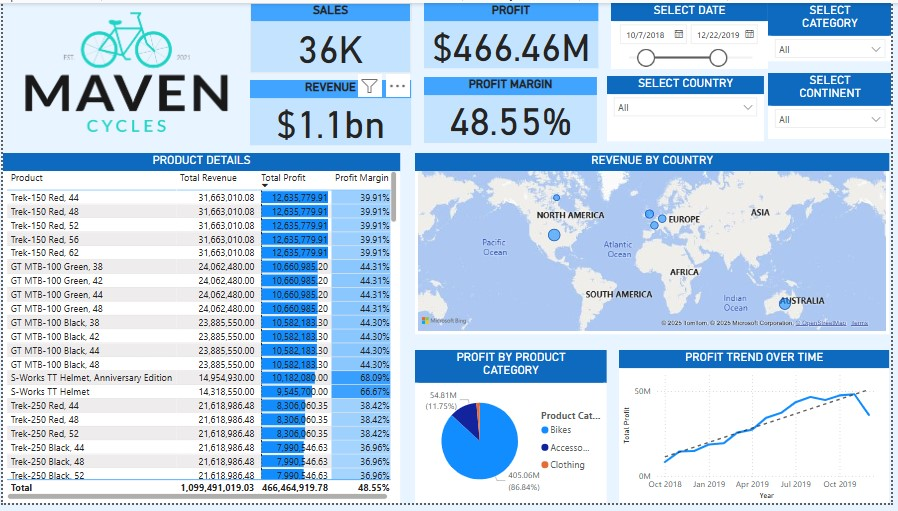

The dashboard page shown, as its layout file describes it:
{"tool":"powerbi","page":{"name":"Page 1","canvas":[1280,720],"ordinal":0},"visuals":[{"type":"card","title":"REVENUE","fields":{"Values":["Maven Cycles Sales Merged.Total Revenue"]},"box":[355.7,110.9,231.8,93.6],"z":0},{"type":"card","title":"PROFIT","fields":{"Values":["Maven Cycles Sales Merged.Total Profit"]},"box":[606.2,0,250.6,93.6],"z":1000},{"type":"card","title":"PROFIT MARGIN","fields":{"Values":["Avg(Maven Cycles Sales Merged.Profit Margin %)"]},"box":[606.2,106.6,249.1,95],"z":2000},{"type":"card","title":"SALES","fields":{"Values":["Maven Cycles Sales Merged.Total Orders"]},"box":[355.7,0,231.8,100.8],"z":3000},{"type":"tableEx","title":"PRODUCT DETAILS","fields":{"Values":["Maven Cycles Sales Merged.Product","Maven Cycles Sales Merged.Total Revenue","Maven Cycles Sales Merged.Total Profit","Avg(Maven Cycles Sales Merged.Profit Margin %)"]},"box":[0,216,571.7,504],"z":4000},{"type":"map","title":"REVENUE BY COUNTRY","fields":{"Category":["Maven Cycles Sales Merged.Country"],"Size":["Maven Cycles Sales Merged.Total Revenue"]},"box":[593.3,216,682.6,260.6],"z":5000},{"type":"pieChart","title":"PROFIT BY PRODUCT CATEGORY","fields":{"Category":["Maven Cycles Sales Merged.Product Category"],"Y":["Maven Cycles Sales Merged.Total Profit"]},"box":[593.3,499.7,276.5,220.3],"z":6000},{"type":"lineChart","title":"PROFIT TREND OVER TIME","fields":{"Category":["Maven Cycles Sales Merged.Stock_ Date.Variation.Date Hierarchy.Year","Maven Cycles Sales Merged.Stock_ Date.Variation.Date Hierarchy.Quarter","Maven Cycles Sales Merged.Stock_ Date.Variation.Date Hierarchy.Month","Maven Cycles Sales Merged.Stock_ Date.Variation.Date Hierarchy.Day"],"Y":["Maven Cycles Sales Merged.Total Profit"]},"box":[887,499.7,388.8,220.3],"z":7000},{"type":"slicer","title":"SELECT COUNTRY","fields":{"Values":["Maven Cycles Sales Merged.Country"]},"box":[869.8,105.1,226.1,93.6],"z":8000},{"type":"slicer","title":"SELECT CATEGORY","fields":{"Values":["Maven Cycles Sales Merged.Product Category"]},"box":[1101.4,0,178.6,83.5],"z":9000},{"type":"slicer","title":"SELECT DATE","fields":{"Values":["Maven Cycles Sales Merged.Stock_ Date"]},"box":[875.5,0,226.1,95],"z":10000},{"type":"slicer","title":"SELECT CONTINENT","fields":{"Values":["Maven Cycles Sales Merged.Continent"]},"box":[1101.6,100.8,178.6,95],"z":11000},{"type":"image","box":[0,0,355.7,198.7],"z":12001}]}

Visuals, with their boxes in screenshot pixels (x1, y1, x2, y2), scaled from the page's 1280x720 canvas onto the 898x511 screenshot:
"REVENUE" card: [x1=250, y1=79, x2=412, y2=145]
"PROFIT" card: [x1=425, y1=0, x2=601, y2=66]
"PROFIT MARGIN" card: [x1=425, y1=76, x2=600, y2=143]
"SALES" card: [x1=250, y1=0, x2=412, y2=72]
"PRODUCT DETAILS" tableEx: [x1=0, y1=153, x2=401, y2=510]
"REVENUE BY COUNTRY" map: [x1=416, y1=153, x2=895, y2=338]
"PROFIT BY PRODUCT CATEGORY" pieChart: [x1=416, y1=355, x2=610, y2=510]
"PROFIT TREND OVER TIME" lineChart: [x1=622, y1=355, x2=895, y2=510]
"SELECT COUNTRY" slicer: [x1=610, y1=75, x2=769, y2=141]
"SELECT CATEGORY" slicer: [x1=773, y1=0, x2=897, y2=59]
"SELECT DATE" slicer: [x1=614, y1=0, x2=773, y2=67]
"SELECT CONTINENT" slicer: [x1=773, y1=72, x2=897, y2=139]
image: [x1=0, y1=0, x2=250, y2=141]
